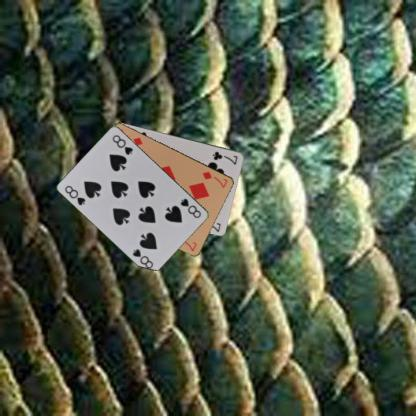7c: (210, 148, 239, 166)
7d: (200, 169, 229, 189)
8s: (62, 182, 88, 207), (178, 196, 202, 219)
